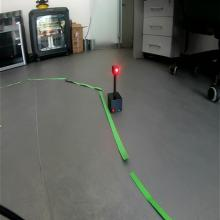red: (111, 64, 120, 77)
